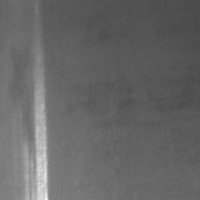scratches: (17, 56, 50, 199)
